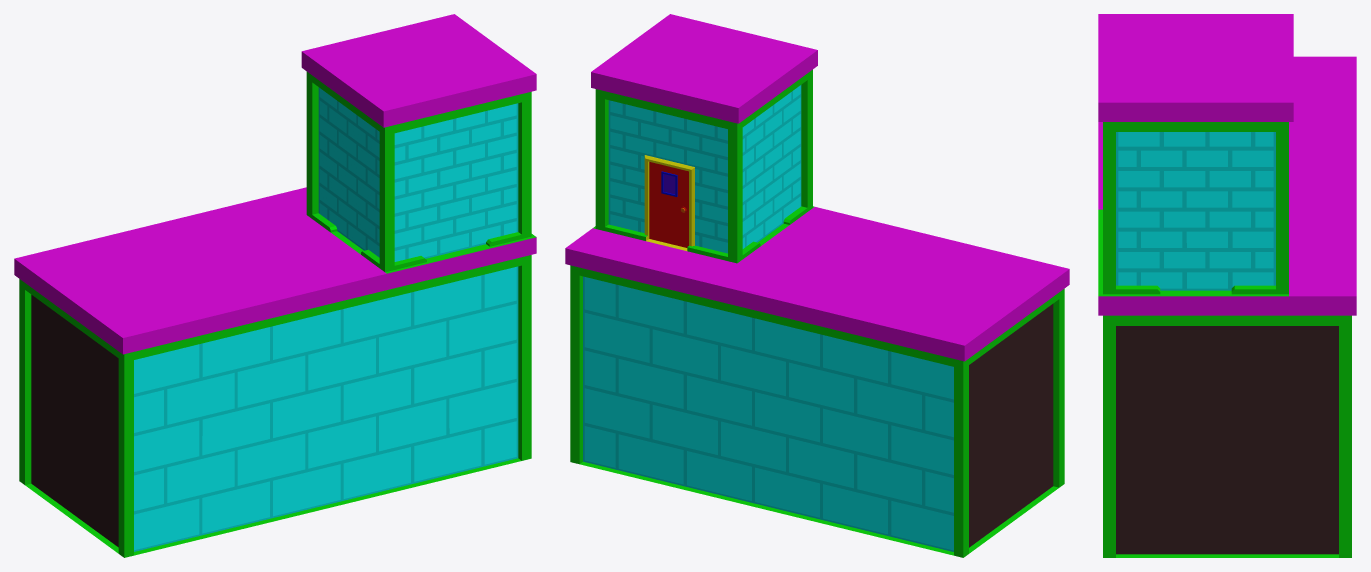
File: BackAlleyBuilding.fbx
3 renders of one model, left to right at view 1: azimuth 30°, elevation 25°; view 2: azimuth 150°, elevation 25°; view 3: azimuth 270°, elevation 25°, orthographic. The views are drawn at different scales.
Visible parts, largest first — view 1: BackAlleyClimbBuilding; view 2: BackAlleyClimbBuilding; view 3: BackAlleyClimbBuilding.
Boxes of the visible parts, left/top/right/bottom form: BackAlleyClimbBuilding: left=14, top=14, right=536, bottom=557; BackAlleyClimbBuilding: left=565, top=14, right=1069, bottom=557; BackAlleyClimbBuilding: left=1098, top=14, right=1356, bottom=557.
Bounding box in the file's own units: 12.87 × 11.44 × 5.85.
